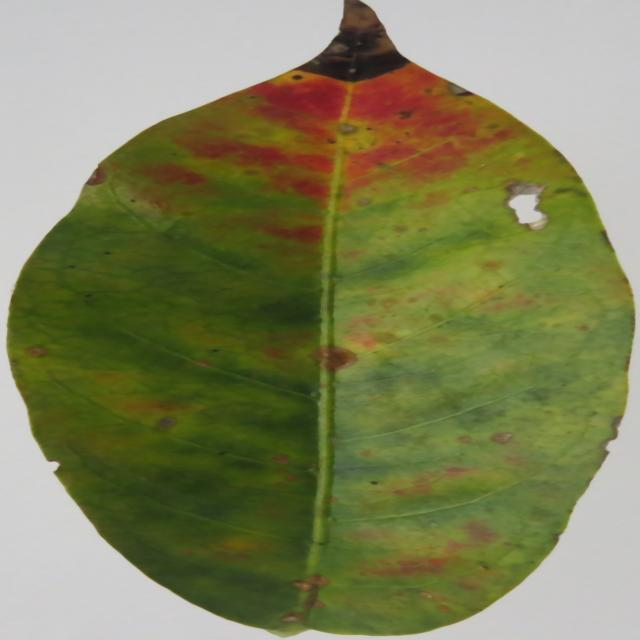DeficienciaNutricional-Fosforo: (8, 0, 634, 635)
